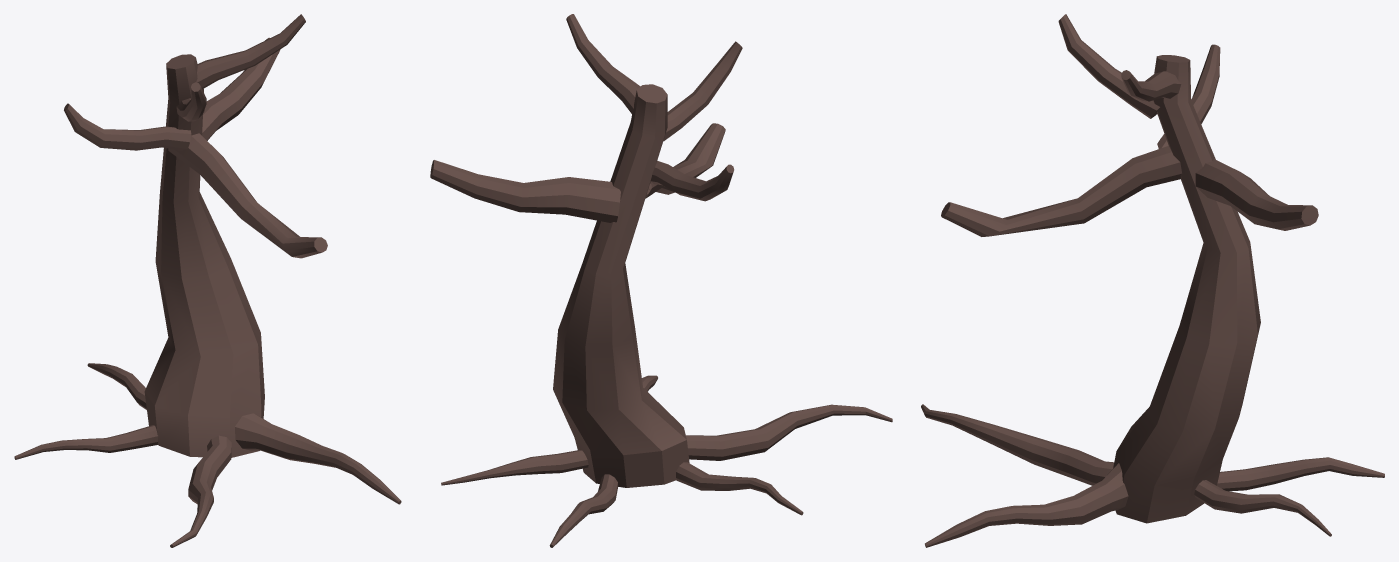
Rendered from Mesh_dead_tree_2.fbx.
3 renders of one model, left to right at view 1: azimuth 30°, elevation 25°; view 2: azimuth 150°, elevation 25°; view 3: azimuth 270°, elevation 25°, orthographic. The views are drawn at different scales.
Visible parts, largest first — view 1: dead_tree_2; view 2: dead_tree_2; view 3: dead_tree_2.
Part boxes in pixels (x1,y1,x2,y2): dead_tree_2: (14,14,401,547); dead_tree_2: (430,14,892,547); dead_tree_2: (921,14,1384,547).
Bounding box in the file's own units: 402 × 520 × 462.
Materials: 1 (1 with a texture image).
